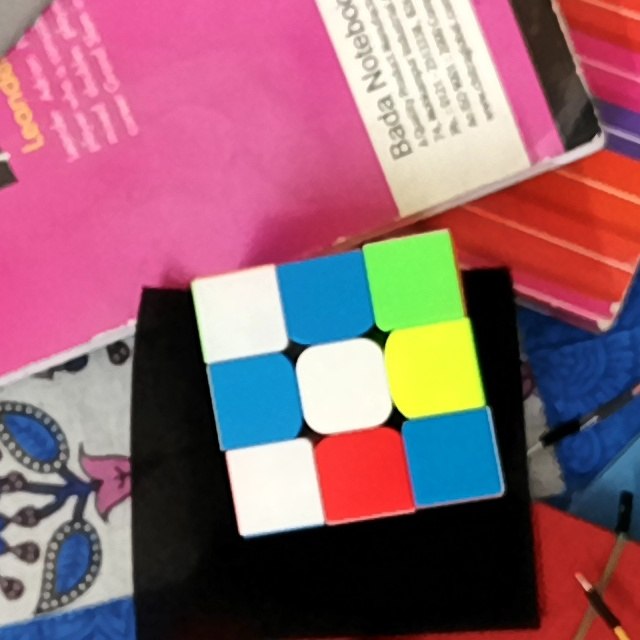tile: (377, 244, 451, 315), (326, 439, 399, 509), (398, 334, 469, 403), (219, 366, 291, 434), (417, 423, 490, 490), (309, 352, 382, 418), (292, 265, 361, 334), (245, 451, 309, 517), (208, 282, 274, 345)
